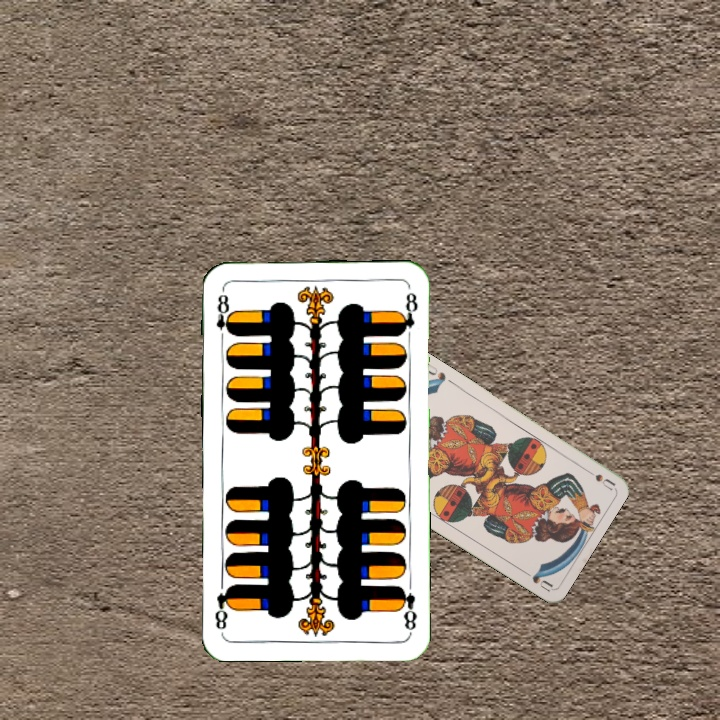E8: (395, 581, 420, 634), (212, 291, 235, 345)
SU: (579, 463, 617, 492)
